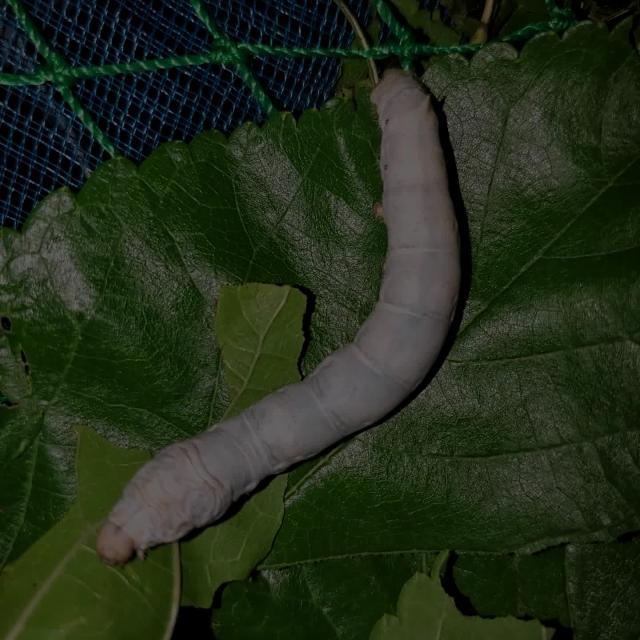Healthy: (76, 34, 521, 586)
